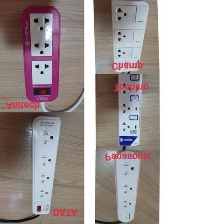three_eye_plug: (18, 3, 61, 104), (28, 113, 63, 218), (107, 0, 151, 74), (110, 147, 143, 222), (114, 72, 143, 149)
